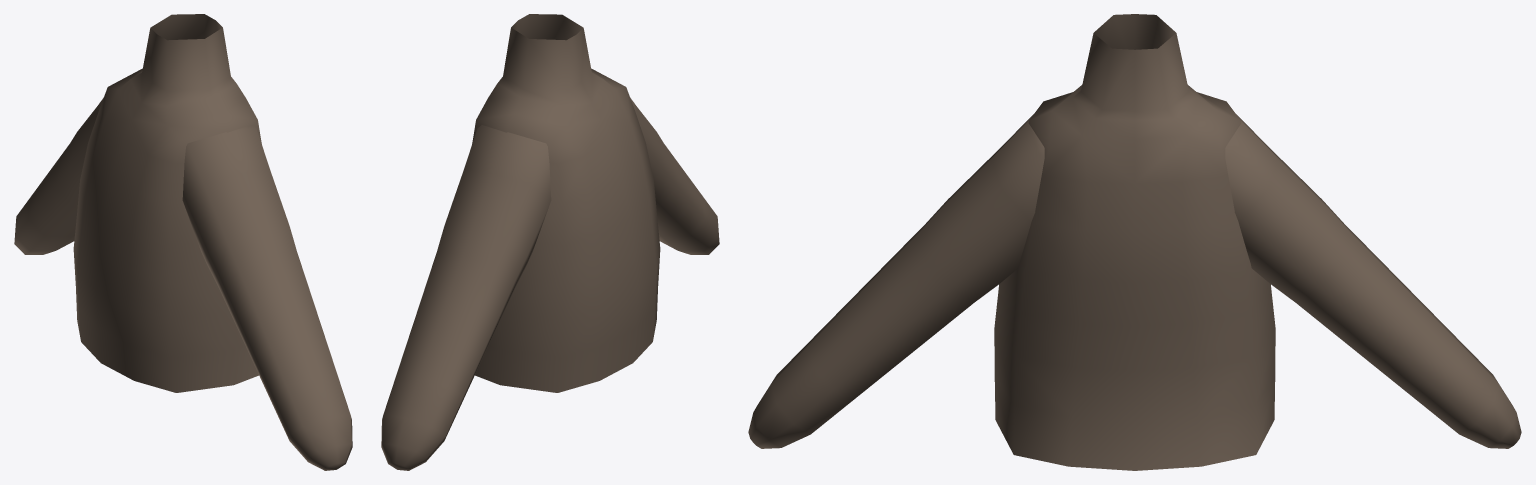
File: bear_chested.fbx
3 views of the same model, side by side, from view 1: azimuth 30°, elevation 25°; view 2: azimuth 150°, elevation 25°; view 3: azimuth 270°, elevation 25° (orthographic). The views are drawn at different scales.
Parts seen in each view (by area): view 1: Cube.003; view 2: Cube.003; view 3: Cube.003.
Part boxes in pixels (<box>): Cube.003: <box>14,14,352,470</box>; Cube.003: <box>381,14,719,470</box>; Cube.003: <box>748,14,1521,470</box>.
Size of the model in its own units: 108 by 209 by 351.
